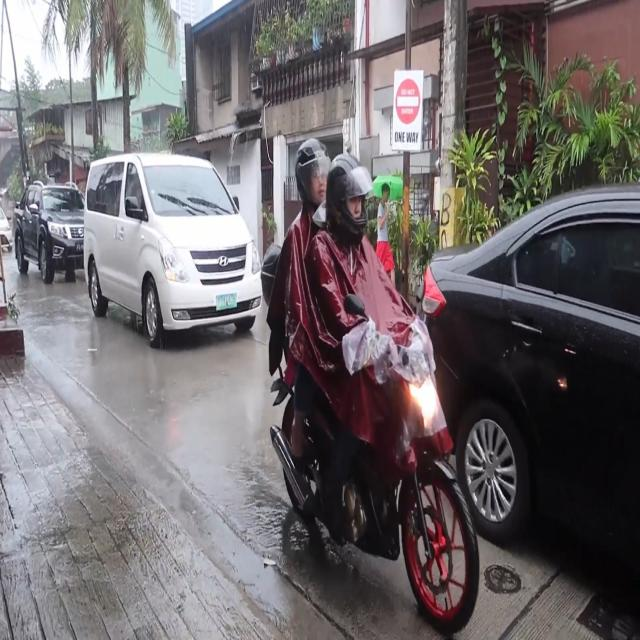full: (325, 153, 374, 242)
half: (295, 139, 330, 206)
